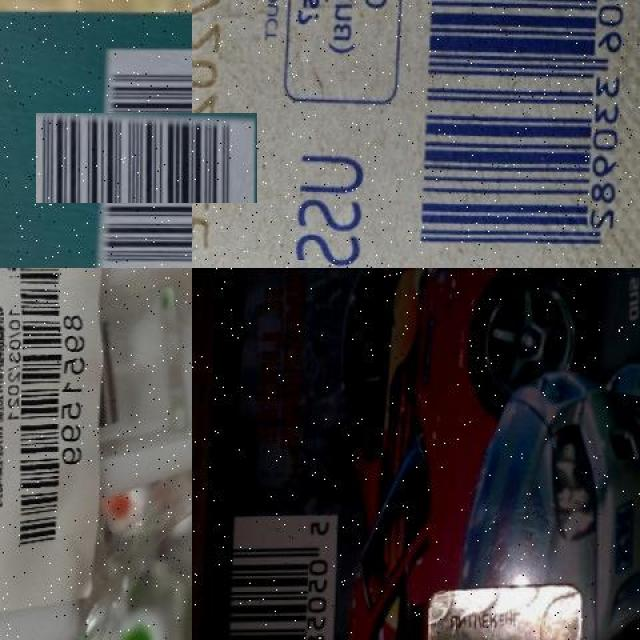Barcode: (412, 0, 640, 268), (69, 79, 224, 236), (8, 268, 89, 560), (221, 512, 339, 640)
